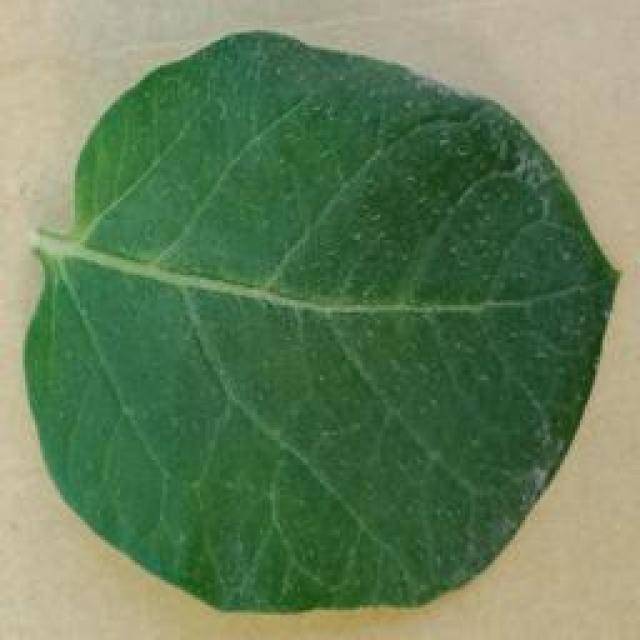Potato_Healthy: (21, 34, 613, 614)
